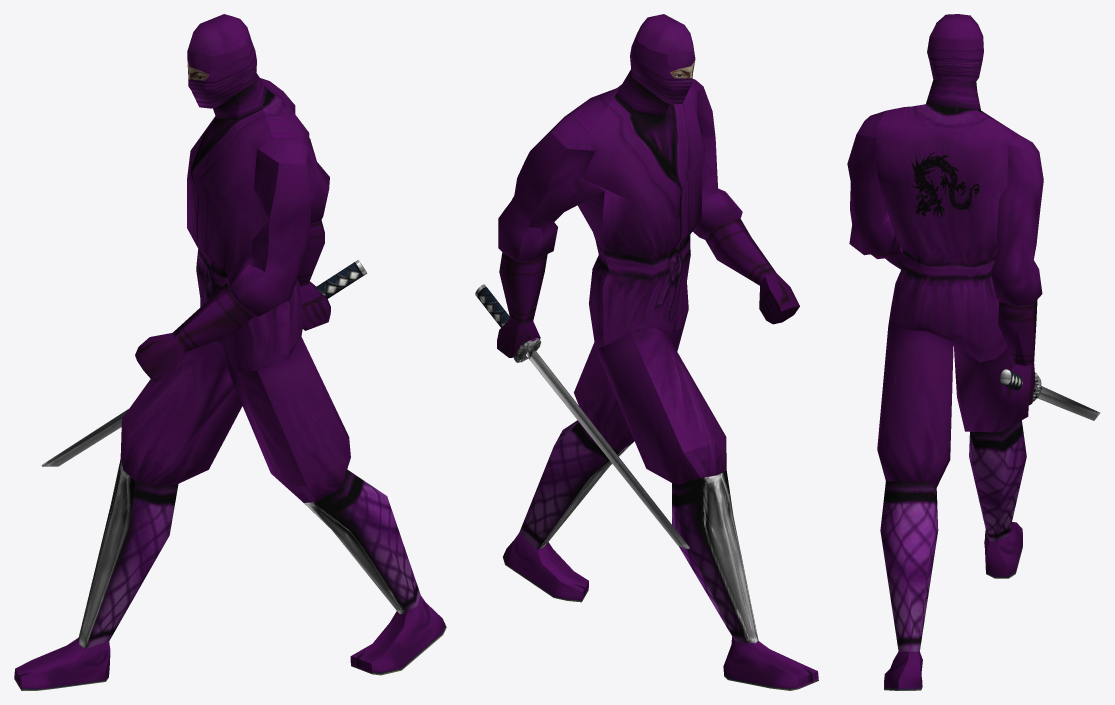
Rendered from ninja.obj.
3 views of the same model, side by side, from view 1: azimuth 30°, elevation 25°; view 2: azimuth 150°, elevation 25°; view 3: azimuth 270°, elevation 25° (orthographic). The views are drawn at different scales.
Visible parts, largest first — view 1: ninja.ms3d.mo_ninja.ms3d.m; view 2: ninja.ms3d.mo_ninja.ms3d.m; view 3: ninja.ms3d.mo_ninja.ms3d.m.
Part boxes in pixels (left/top/right/bottom): ninja.ms3d.mo_ninja.ms3d.m: left=14, top=14, right=446, bottom=690; ninja.ms3d.mo_ninja.ms3d.m: left=475, top=14, right=818, bottom=690; ninja.ms3d.mo_ninja.ms3d.m: left=847, top=14, right=1100, bottom=690.
Bounding box in the file's own units: 5.54 × 9.27 × 3.48.
Materials: 1 (1 with a texture image).
